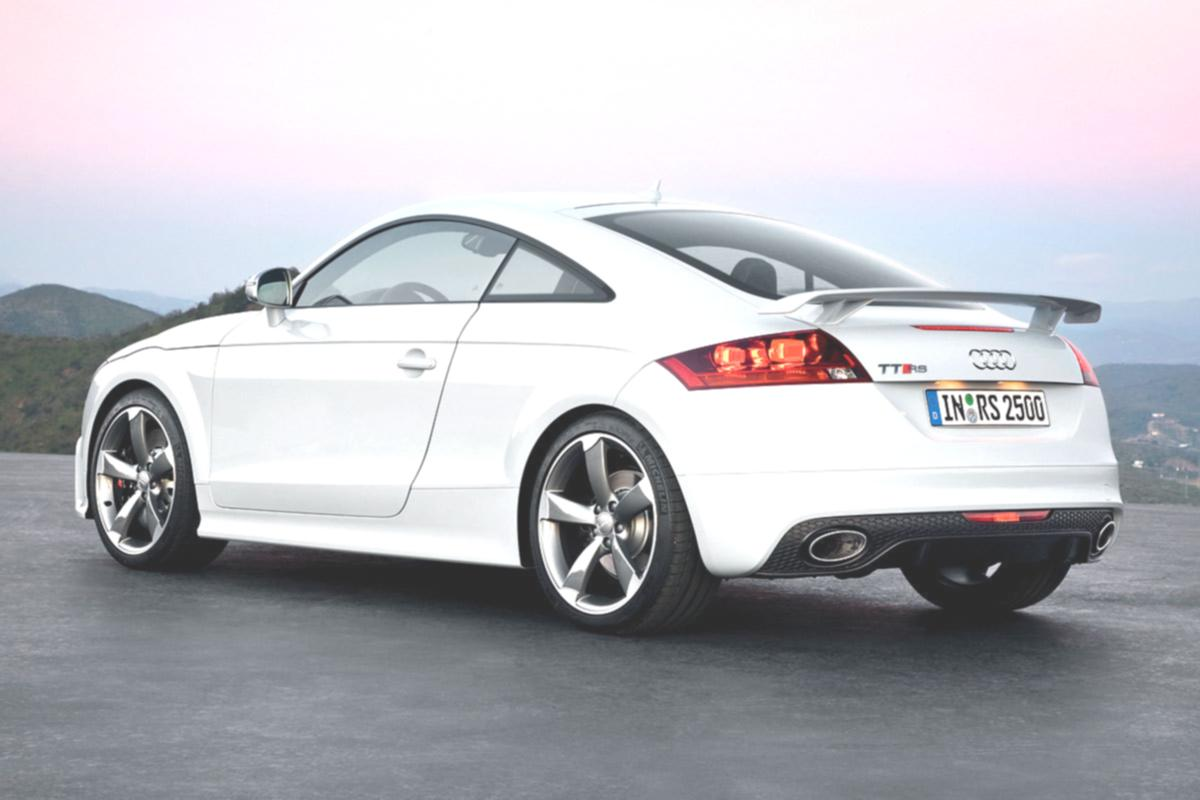Audi: (964, 340, 1022, 379)
